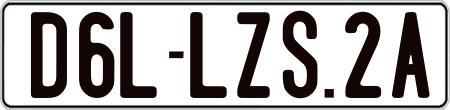2: (344, 9, 381, 96)
6: (79, 12, 118, 98)
A: (389, 10, 427, 101)
D: (28, 12, 70, 100)
L: (189, 10, 231, 96), (120, 12, 161, 98)
S: (283, 9, 320, 99)
Z: (237, 9, 272, 97)
